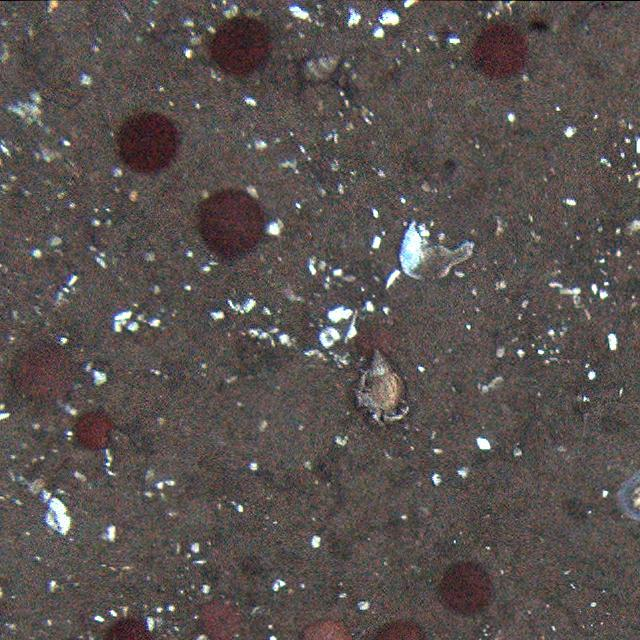whelk: (361, 348, 408, 420)
